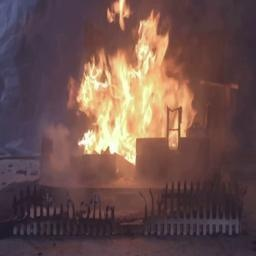fire: (59, 0, 205, 163)
